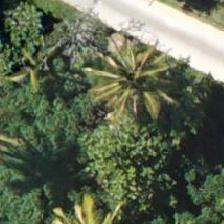coconut_tree: (94, 39, 184, 129)
